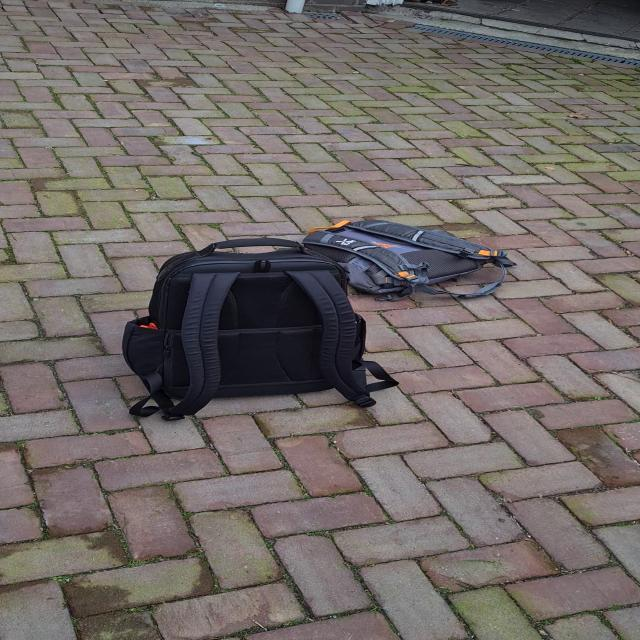backpack: (114, 235, 392, 427), (296, 214, 518, 304)
